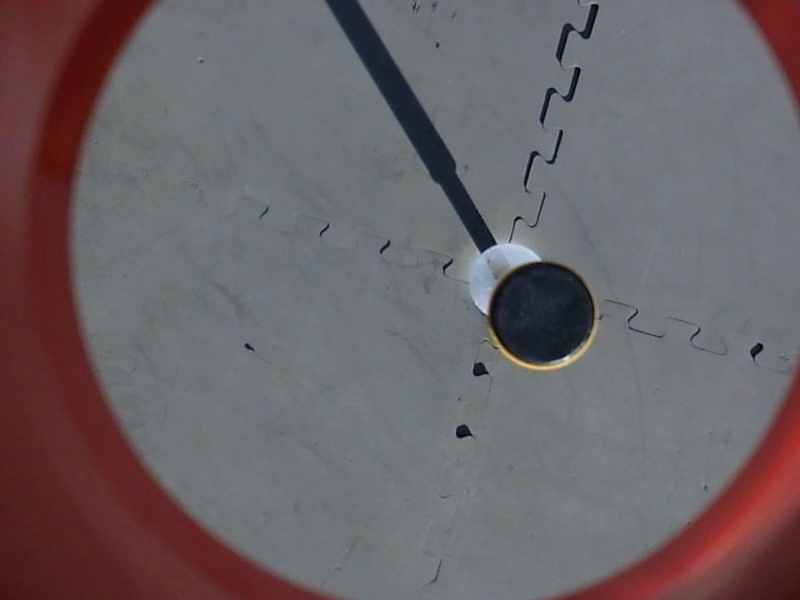tip: (486, 257, 605, 374)
